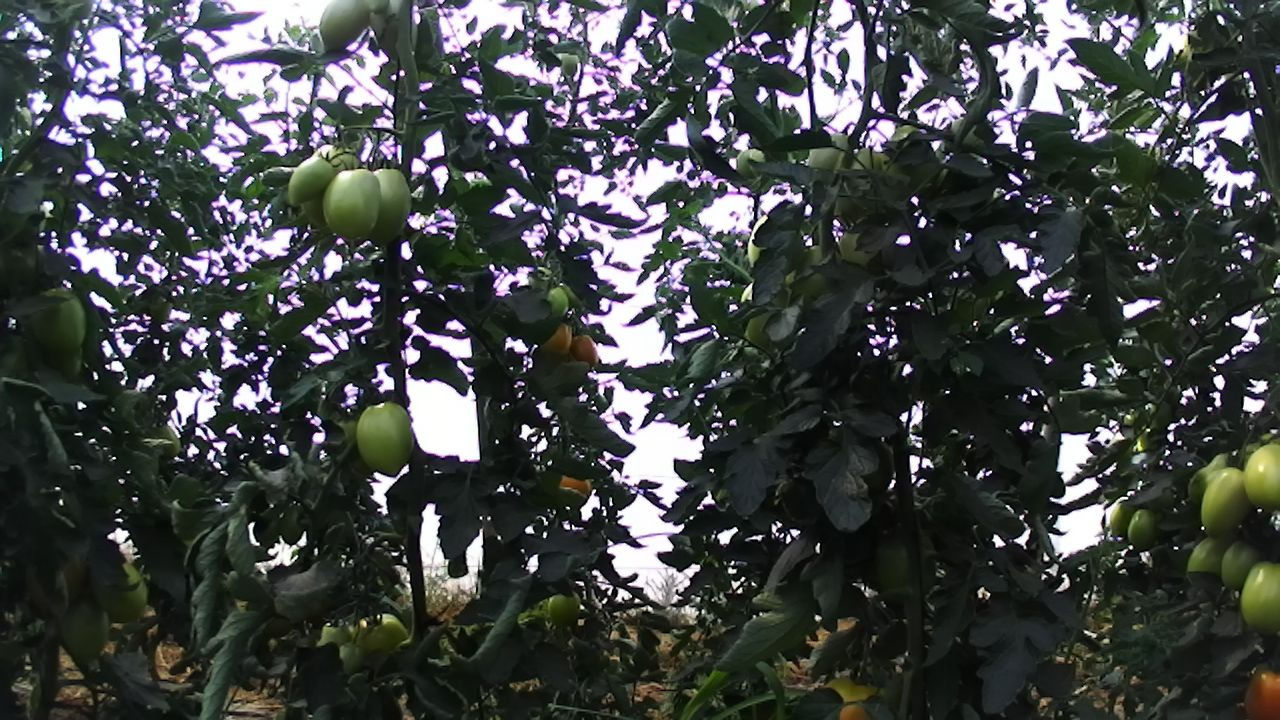tomato: (351, 398, 415, 481), (21, 282, 89, 358), (319, 165, 381, 240), (361, 164, 416, 248), (85, 556, 152, 624), (1198, 466, 1256, 540), (55, 592, 111, 664), (1237, 559, 1280, 640), (317, 0, 374, 57), (1243, 439, 1280, 514), (1219, 532, 1263, 595), (288, 155, 337, 209), (544, 587, 582, 628), (1127, 506, 1158, 553), (566, 332, 600, 370), (1108, 499, 1134, 540), (545, 285, 570, 320)
